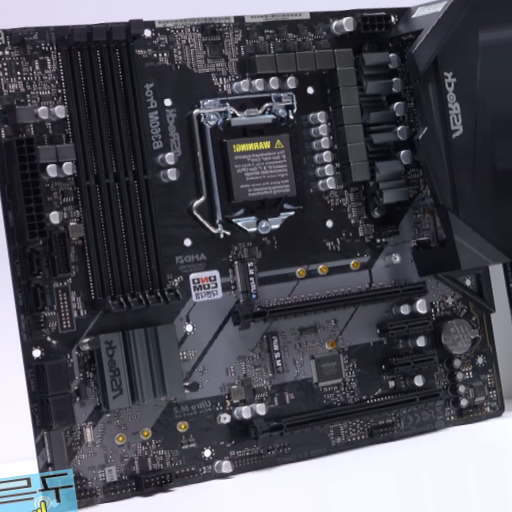CPU: (198, 90, 307, 236)
GPU: (251, 387, 446, 447), (234, 279, 429, 331)
MOTHERBOARD: (1, 10, 507, 505)
RAM: (62, 20, 181, 314)
SSD: (234, 256, 262, 306), (264, 331, 288, 376)
